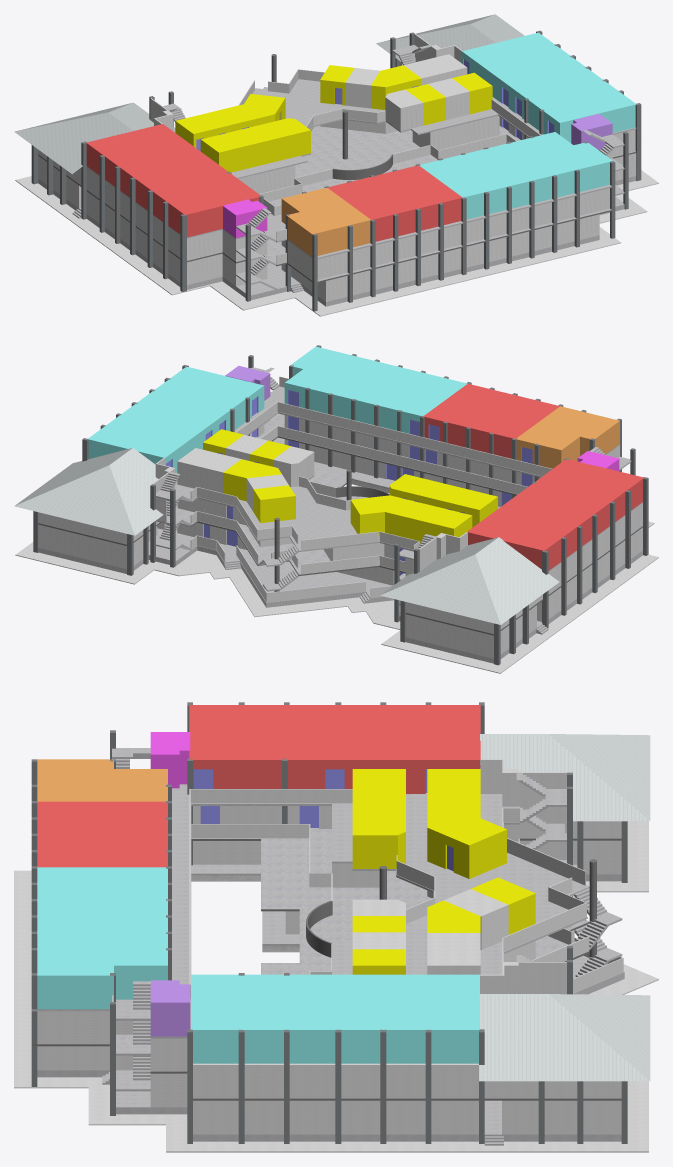
Rendered from Annex12F.gltf.
3 views of the same model, one above another, from view 1: azimuth 30°, elevation 25°; view 2: azimuth 150°, elevation 25°; view 3: azimuth 270°, elevation 25° (orthographic). The views are drawn at different scales.
Visible parts, largest first — view 1: object 144, object 138, object 62, object 3, Column#2 (×15), object 131, object 139, object 120, object 143, object 141, object 137, object 127 (+32 smaller); view 2: object 144, object 138, object 127, object 3, object 130, object 142, object 11, object 131, object 139, object 52, object 141, object 120 (+32 smaller); view 3: object 144, object 138, object 3, object 143, object 130, object 120, object 62, object 141, object 139, object 127, object 131, object 11 (+36 smaller).
Part boxes in pixels (box(x1,y1,x2,y2)): object 144: box(86, 124, 260, 237); object 138: box(419, 132, 612, 219); object 62: box(38, 125, 636, 282); object 3: box(15, 170, 658, 316); Column#2 (×15): box(245, 131, 628, 311); object 131: box(328, 165, 462, 241); object 139: box(150, 33, 469, 131); object 120: box(510, 68, 636, 142); object 143: box(86, 41, 636, 259); object 141: box(462, 33, 586, 108); object 137: box(281, 188, 370, 256); object 127: box(14, 102, 153, 174); object 144: box(467, 459, 643, 570); object 138: box(284, 346, 467, 436); object 127: box(380, 537, 559, 624); object 3: box(15, 480, 658, 673); object 130: box(14, 448, 163, 535); object 142: box(190, 376, 552, 551); object 11: box(38, 437, 642, 663); object 131: box(423, 383, 559, 458); object 139: box(152, 435, 467, 571); object 52: box(190, 425, 527, 574); object 141: box(88, 403, 213, 472); object 120: box(137, 367, 264, 434); object 144: box(189, 705, 480, 793); object 138: box(37, 867, 167, 1009); object 3: box(14, 821, 658, 1152); object 143: box(31, 784, 589, 1038); object 130: box(479, 994, 650, 1081); object 120: box(191, 974, 338, 1063); object 62: box(31, 828, 621, 1100); object 141: box(338, 974, 479, 1063); object 139: box(352, 759, 566, 994); object 127: box(480, 734, 650, 821); object 131: box(37, 801, 167, 867); object 11: box(37, 864, 624, 1141).
Bounding box in the file's own units: 63.61 × 10.22 × 50.1.
12 materials, 4 textured.
